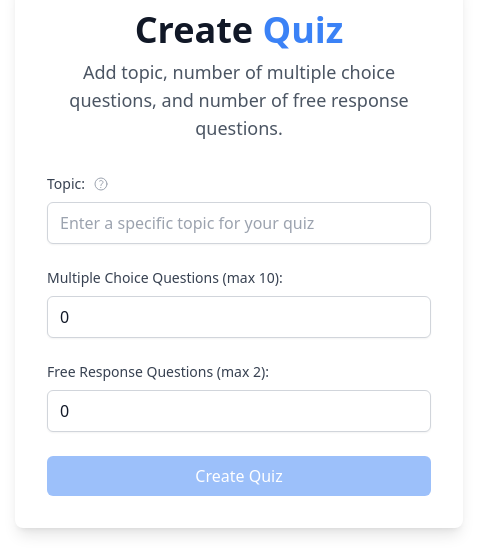
Test: Create Quiz Page › limits free response questions to 2
Replace the text in the number field labelled "Free Response Questions (max 2):" with "5" at (239,411), box top-left (47, 390), bottom-right (431, 432)
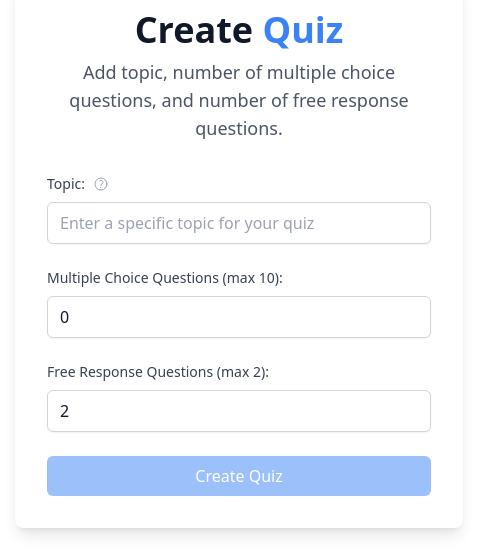
Now the number field labelled "Free Response Questions (max 2):" holds "2", box top-left (47, 390), bottom-right (431, 432)
